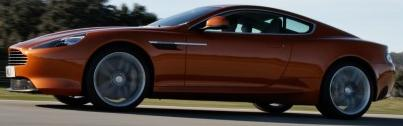front_view: (6, 27, 102, 102)
headlight: (30, 30, 88, 53)
side_glass: (188, 9, 321, 37)
